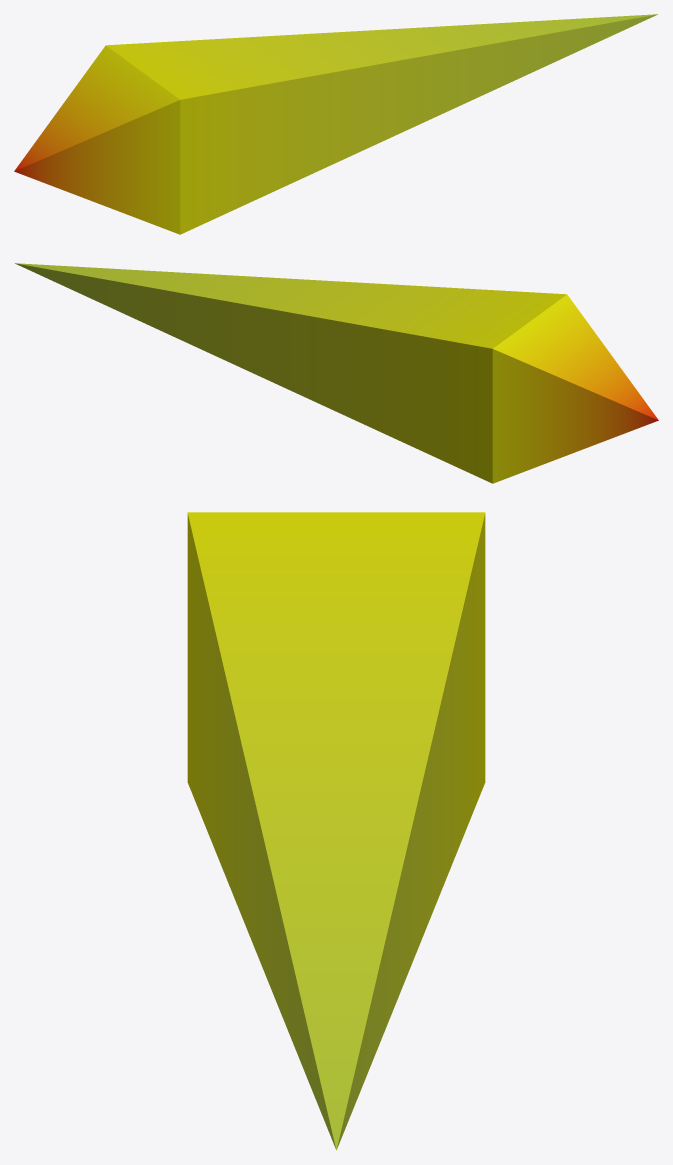
The model's file is firebolt.gltf.
The picture shows the model from 3 angles, top to bottom: view 1: azimuth 30°, elevation 25°; view 2: azimuth 150°, elevation 25°; view 3: azimuth 270°, elevation 25°; orthographic projection. The views are drawn at different scales.
Visible parts, largest first — view 1: firebolt_mesh; view 2: firebolt_mesh; view 3: firebolt_mesh.
Boxes of the visible parts, left/top/right/bottom form: firebolt_mesh: left=14, top=14, right=657, bottom=234; firebolt_mesh: left=15, top=263, right=658, bottom=483; firebolt_mesh: left=187, top=512, right=485, bottom=1150.
Size of the model in its own units: 1 by 0.2 by 0.2.
